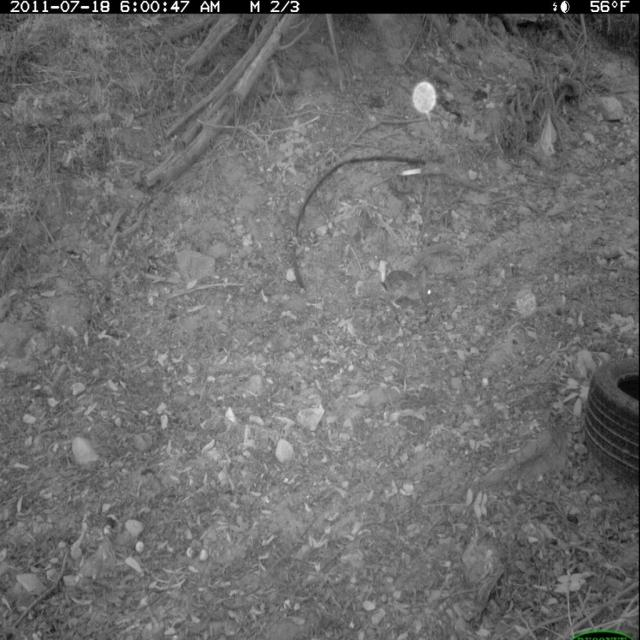rabbit: (378, 264, 437, 313)
